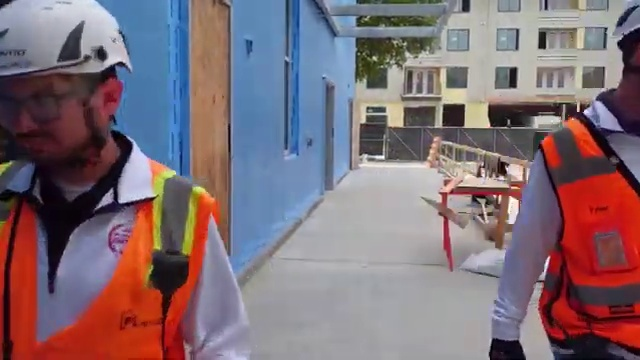helmet: (1, 1, 142, 81)
jacket: (1, 149, 230, 360), (530, 107, 640, 360)
